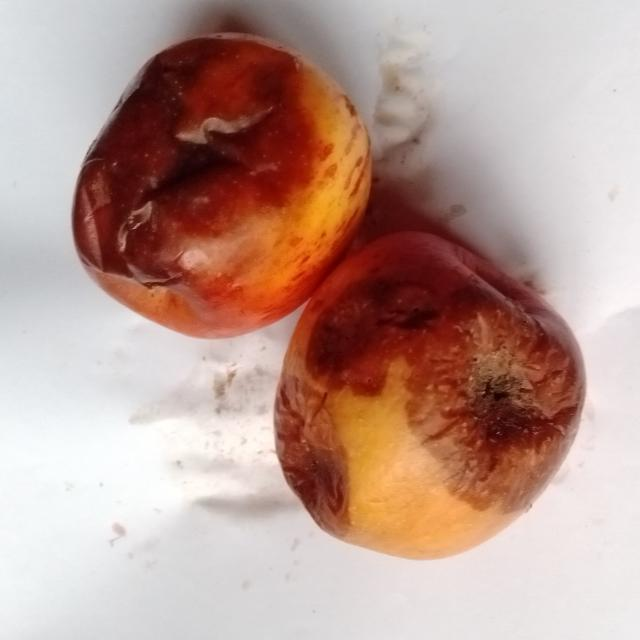apple: (276, 232, 585, 558), (74, 34, 370, 337)
